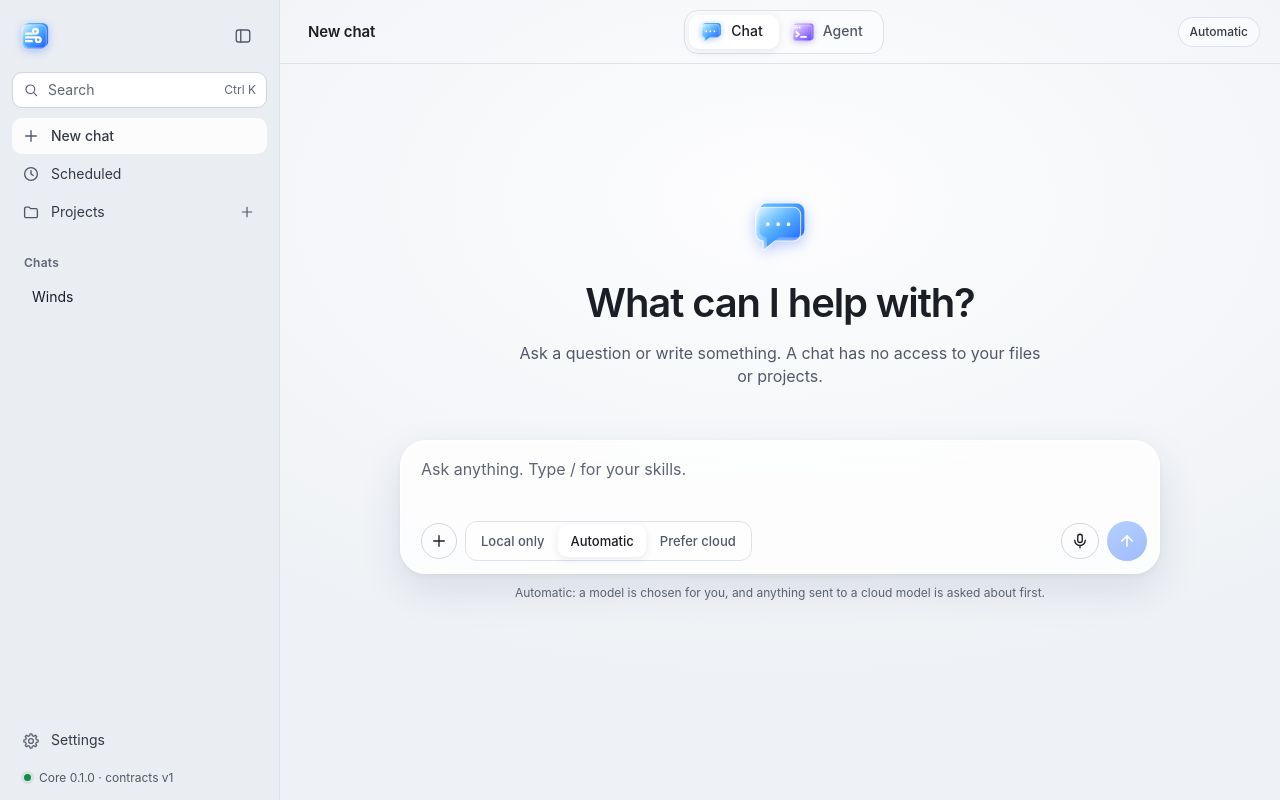
Test case: M2 durable desktop surface › opens in Chat, lists the chats, and switches to Agent and back
Expected: the heading "What can I help with?" is shown, [585, 274, 975, 332]
Expected: the button "Winds" is shown, [20, 279, 267, 315]
Click the radio button labelled "Agent" at (830, 32), box [781, 14, 879, 48]
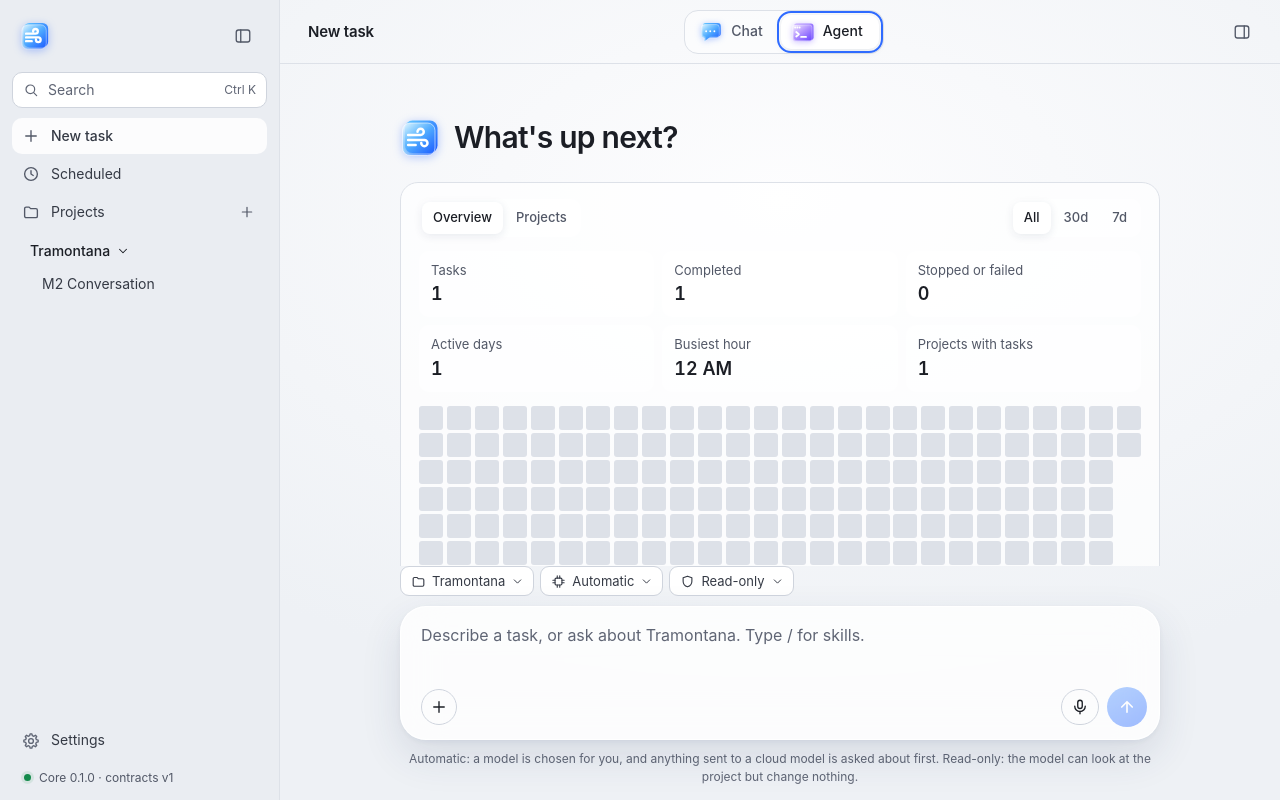
Now the heading "What's up next?" is shown, box [400, 118, 678, 158]
Now the button with aria-label "Project: Tramontana" is shown, box [400, 566, 534, 596]
Click the radio button labelled "Chat" at (734, 32), box [689, 14, 779, 48]
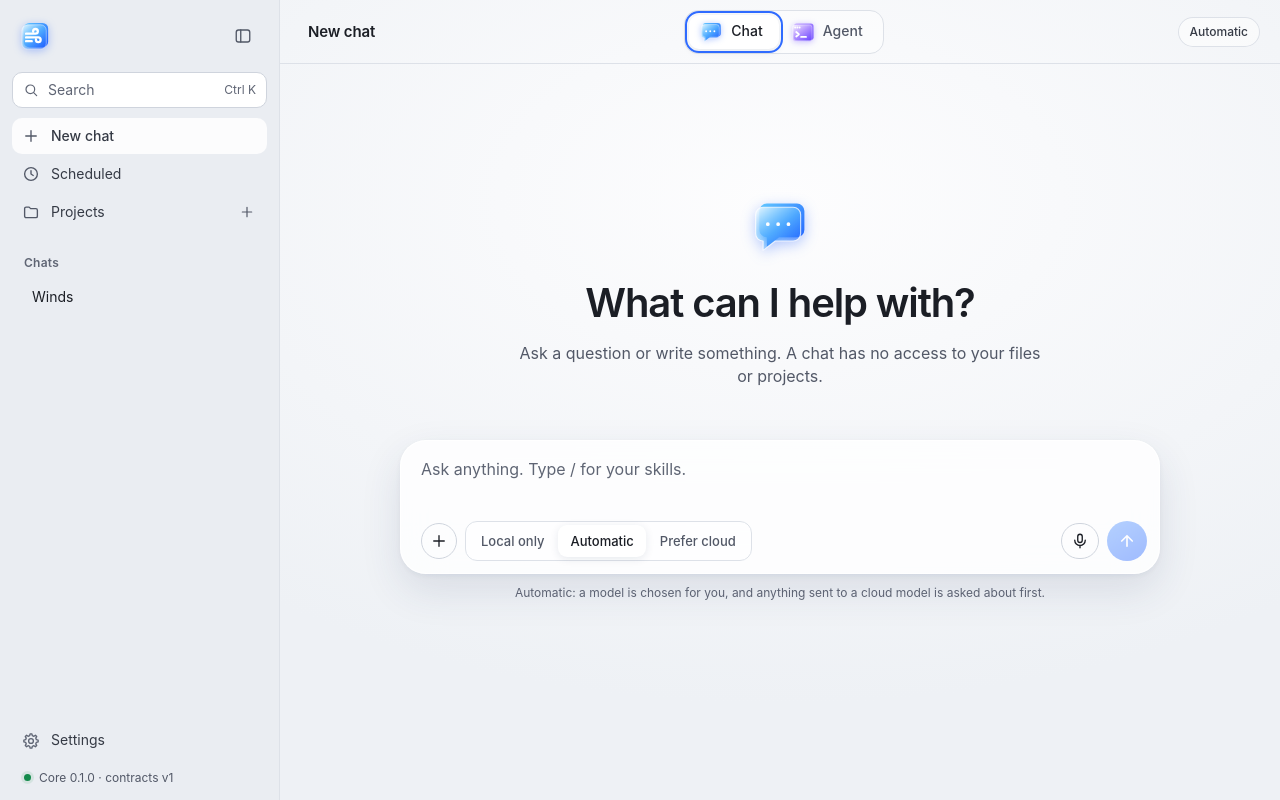
Now the heading "New chat" is shown, box [308, 22, 375, 41]
